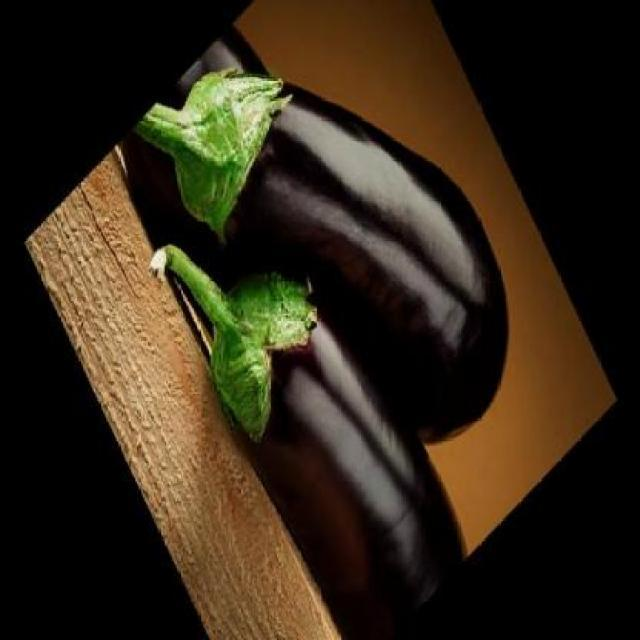eggplant: (102, 0, 544, 602), (152, 242, 476, 638), (109, 11, 337, 356)
